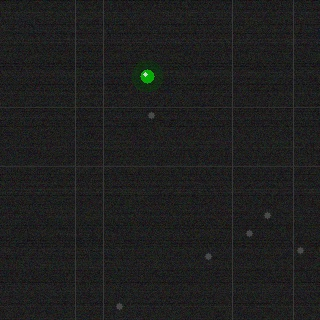green_normal: (138, 67, 156, 85)
